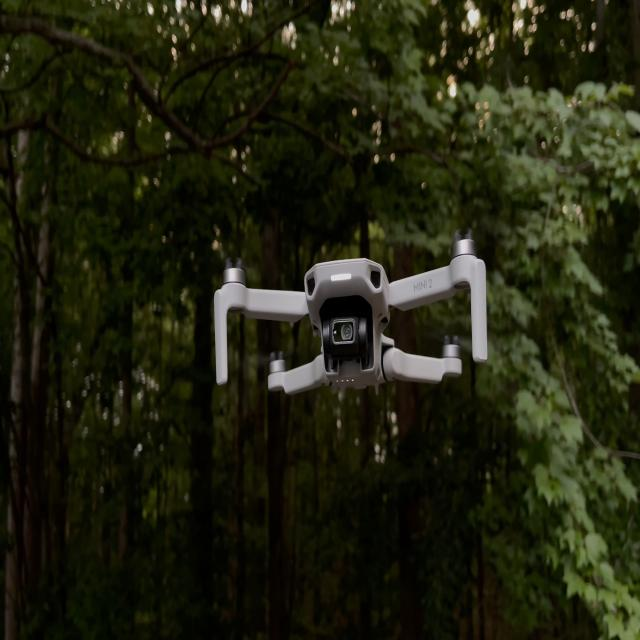Drone: (215, 236, 492, 416)
